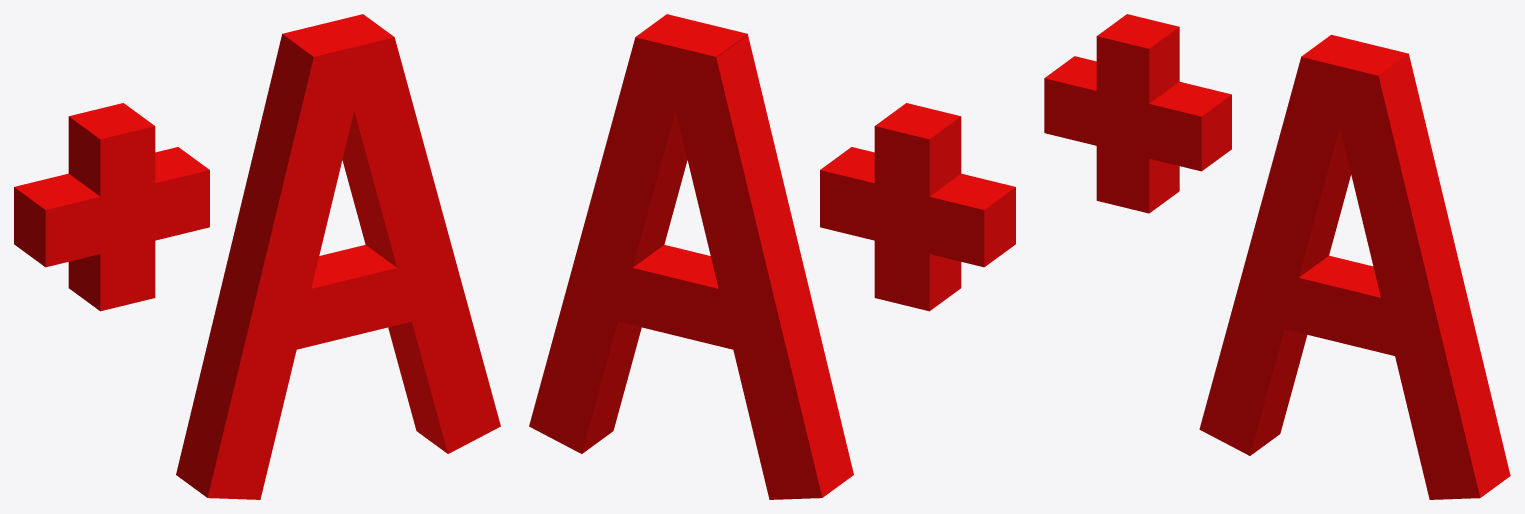
File: aplus4.obj
The picture shows the model from 3 angles, left to right: view 1: azimuth 30°, elevation 25°; view 2: azimuth 150°, elevation 25°; view 3: azimuth 330°, elevation 25°; orthographic projection. The views are drawn at different scales.
Size of the model in its own units: 4.99 by 4.5 by 0.6.
